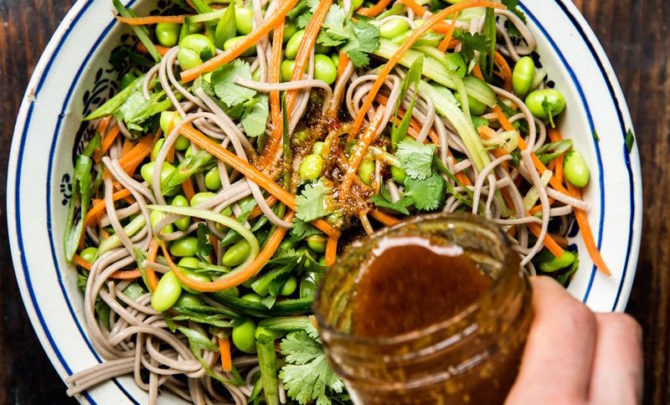Soba: (70, 6, 579, 404)
